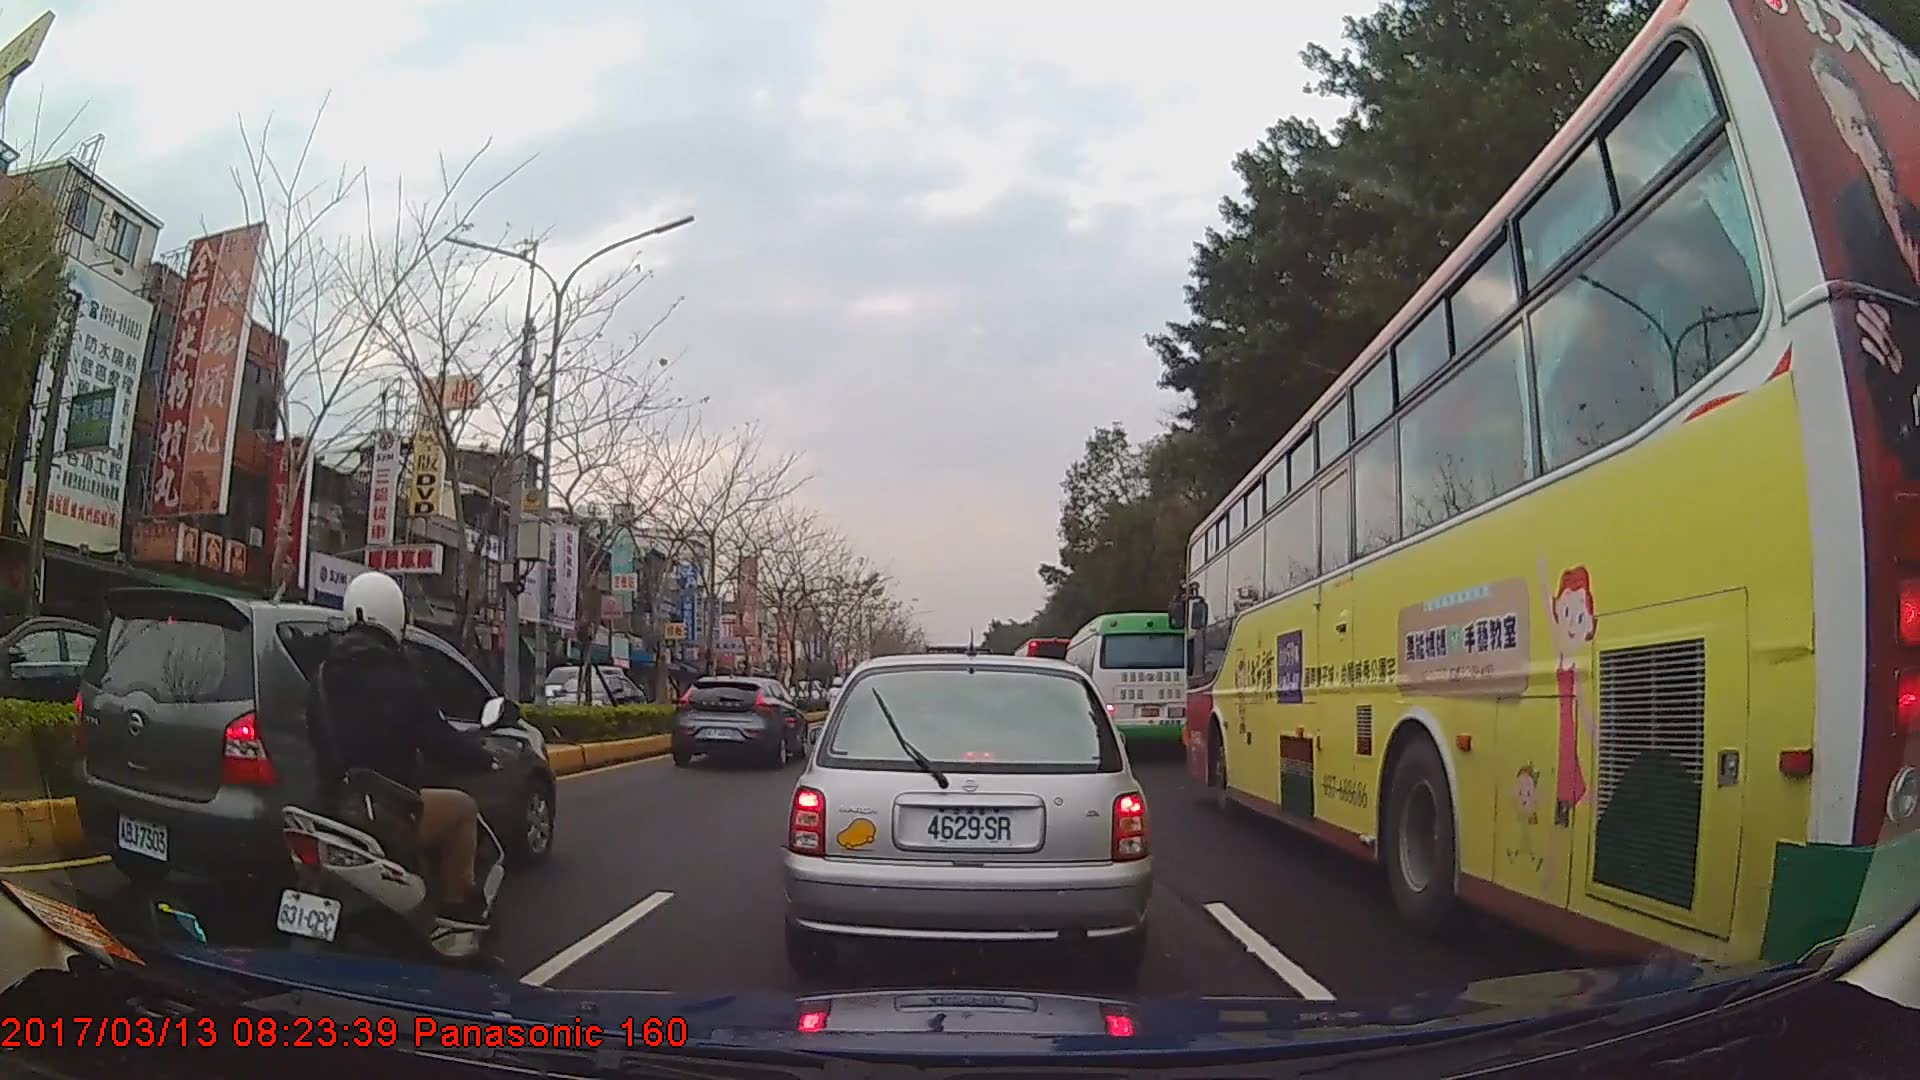rider: (280, 569, 508, 979), (825, 675, 851, 735)
vehicle: (1185, 0, 1920, 976), (74, 585, 553, 929), (783, 652, 1154, 982), (0, 601, 210, 790), (1061, 611, 1196, 761), (668, 672, 807, 774), (540, 673, 644, 731)
